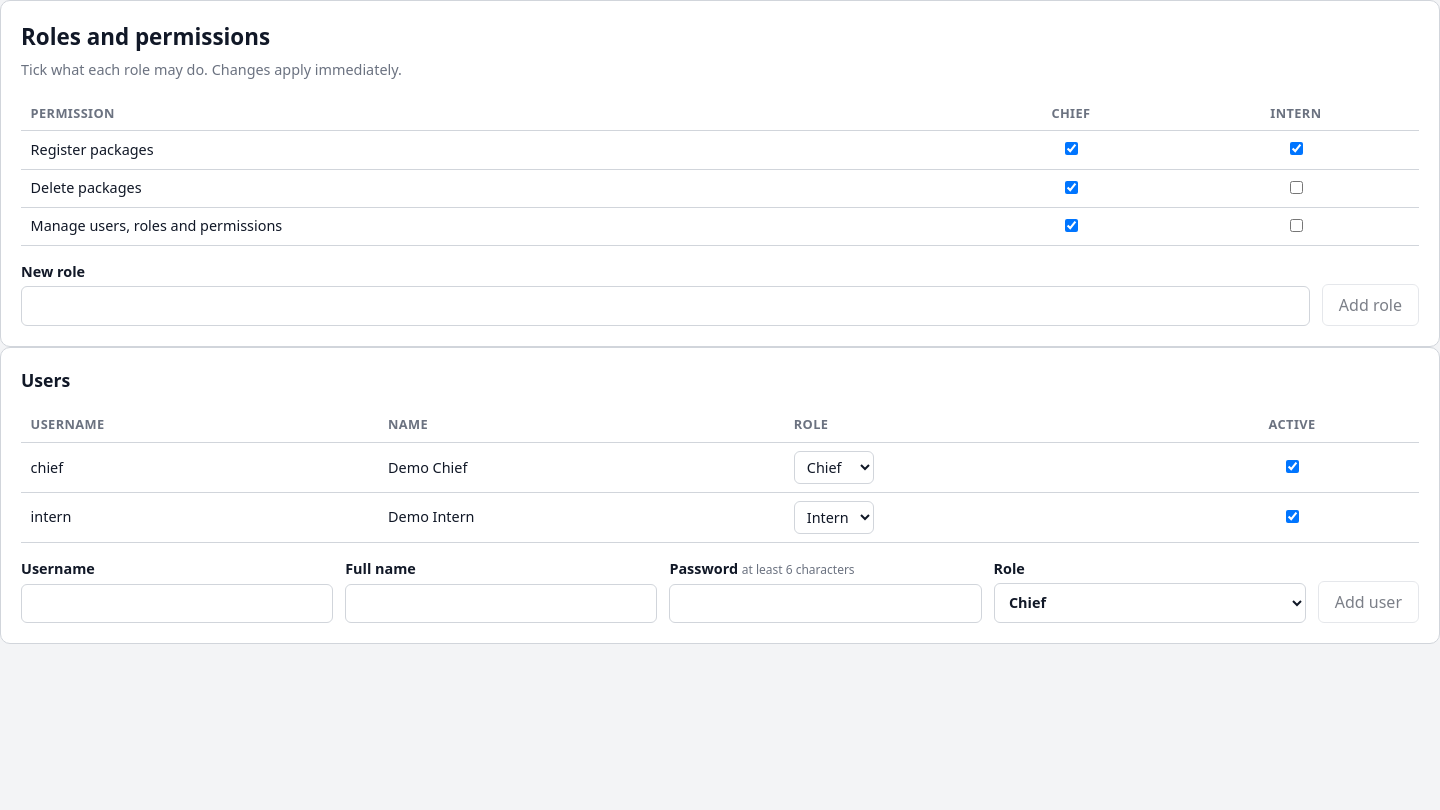
Test case: adds a role, which appears as a new column
Expected: the checkbox named "Intern: Delete packages" is shown, [1290,181,1303,194]
In the field labelled "New role": (665, 306) [21,286,1310,326], type "Night shift"
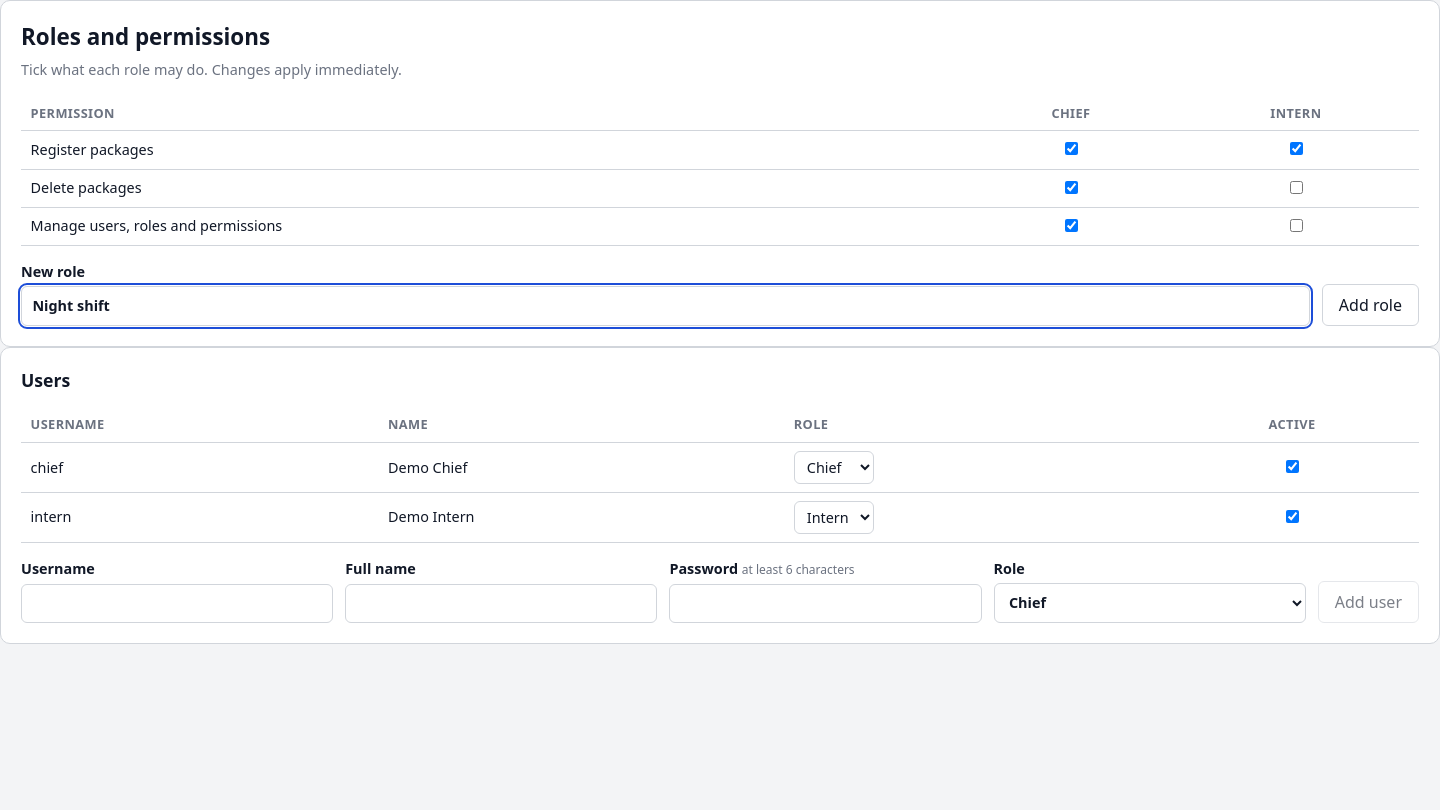
Click the button "Add role": (1370, 305) [1322,284,1419,326]
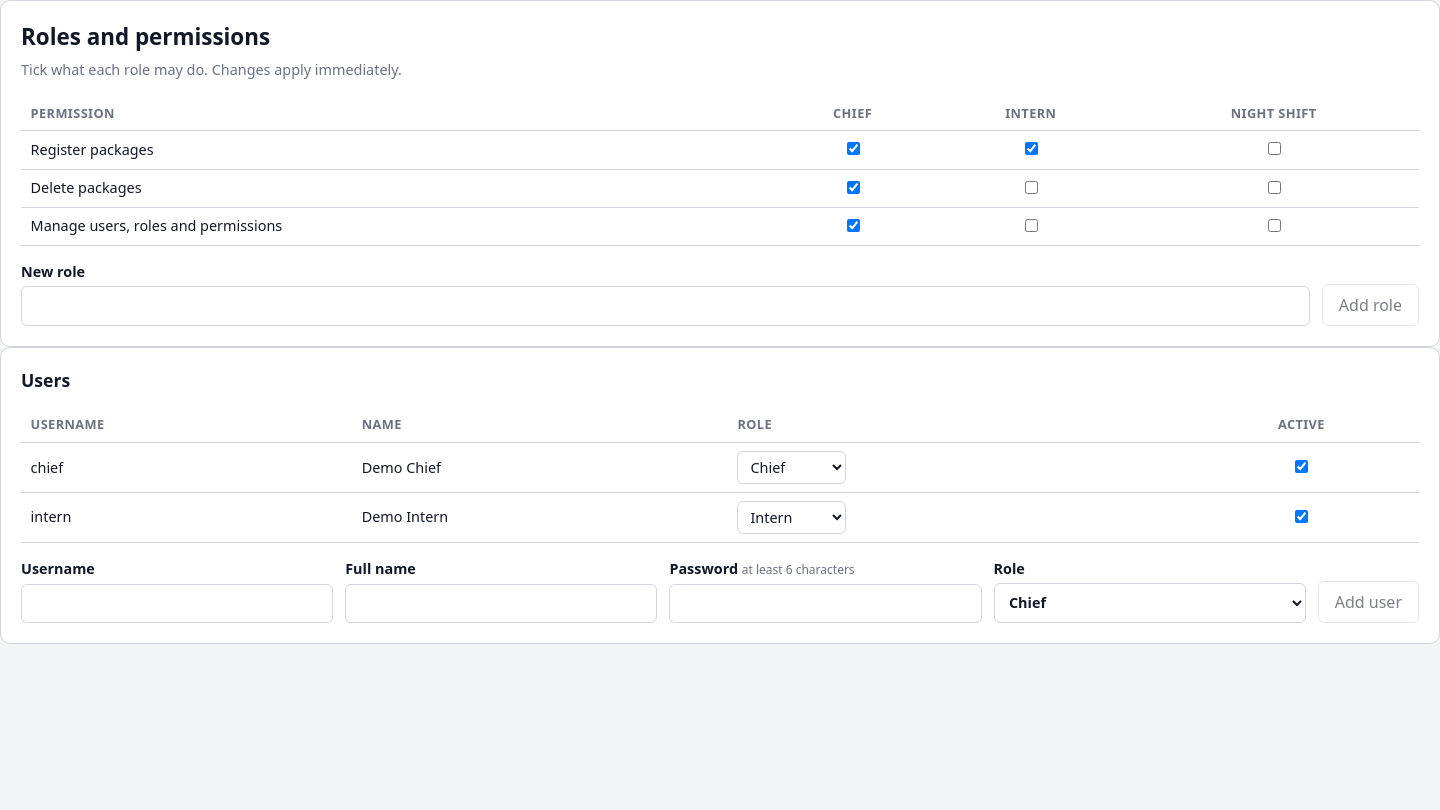
Expected: the checkbox named "Night shift: Delete packages" is not checked, [1268,181,1281,194]
